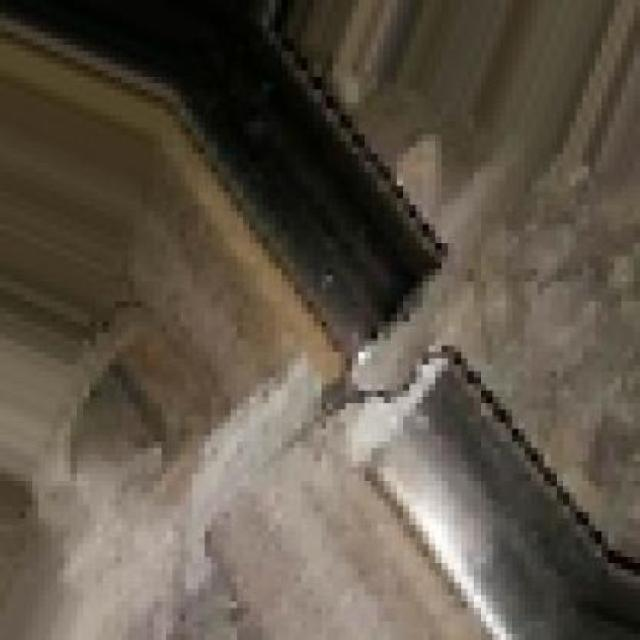defective: (115, 1, 519, 640)
